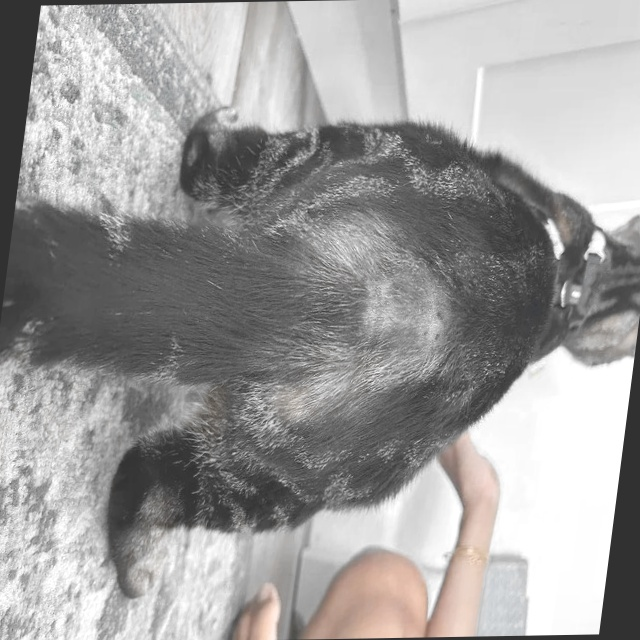hairloss: (343, 275, 466, 371)
